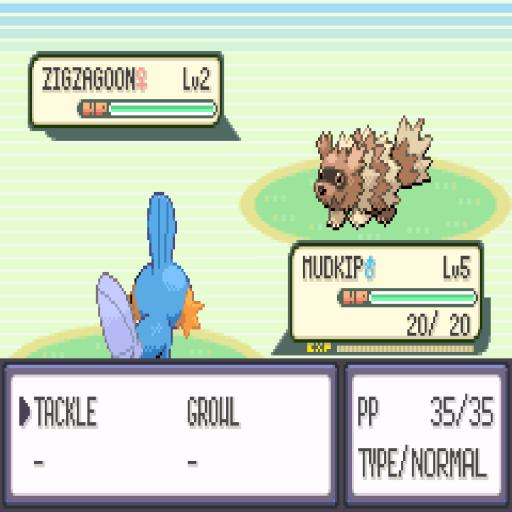menu: (4, 358, 343, 506)
selected item: (13, 377, 102, 437)
